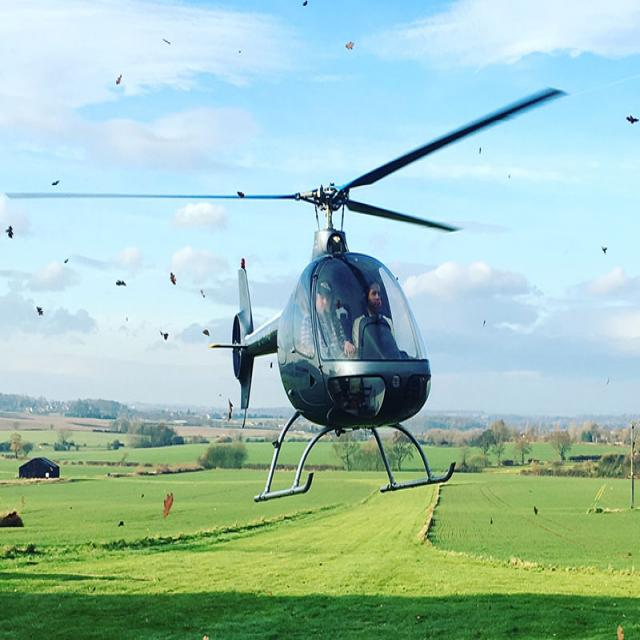helicopter: (97, 84, 568, 508)
